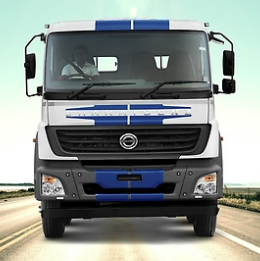truck: (17, 16, 238, 248)
